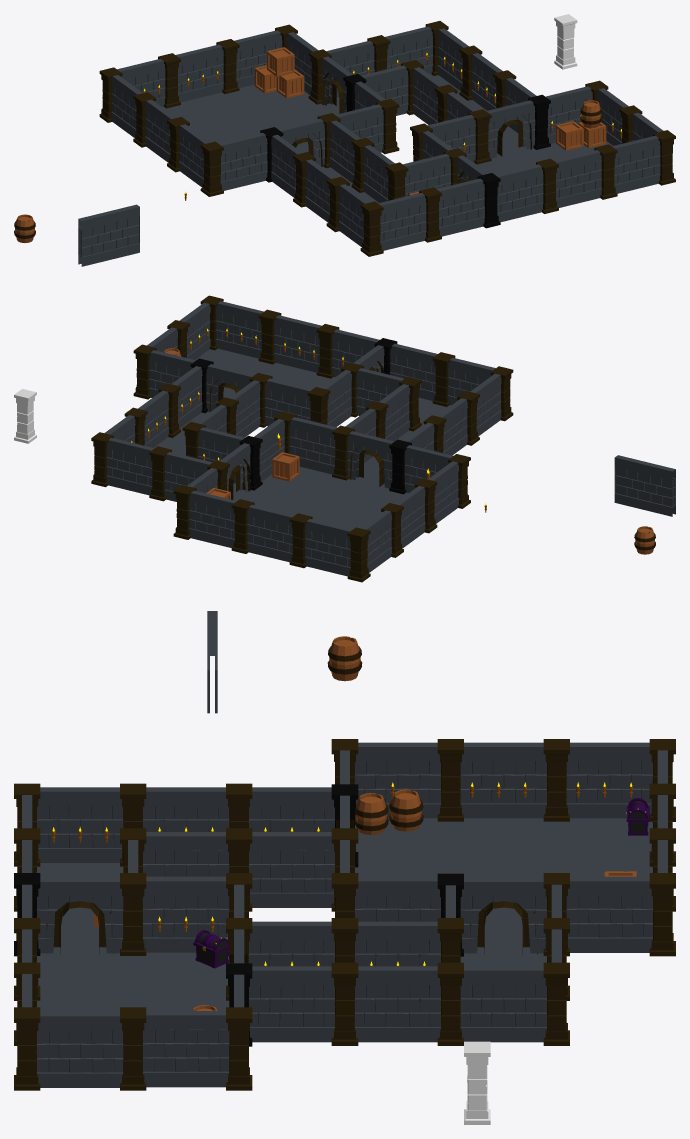
The model's file is dungeon+assets.glb.
The picture shows the model from 3 angles, top to bottom: view 1: azimuth 30°, elevation 25°; view 2: azimuth 150°, elevation 25°; view 3: azimuth 270°, elevation 25°; orthographic projection. The views are drawn at different scales.
Visible parts, largest first — view 1: wall, wall(without pillar), wall.021, wall.017, wall.020, wall.022, wall.016, wall.008, doorway.001, wall.015, wall.019, wall.009 (+42 smaller); view 2: wall(without pillar), wall.009, wall.003, wall.008, wall.021, wall.002, wall.022, doorway, wall.007, wall(without pillar).003, wall.030, wall.016 (+36 smaller); view 3: wall.024, wall.029, wall.027, wall.025, wall.006, wall.010, wall.004, wall.015, wall.007, wall.005, wall(without pillar).001, wall.018 (+44 smaller).
Part boxes in pixels (left/top/right/bottom): wall: left=200, top=132, right=267, bottom=196; wall(without pillar): left=78, top=204, right=139, bottom=266; wall.021: left=553, top=144, right=617, bottom=207; wall.017: left=436, top=173, right=500, bottom=236; wall.020: left=495, top=158, right=558, bottom=222; wall.022: left=612, top=130, right=675, bottom=193; wall.016: left=378, top=187, right=441, bottom=250; wall.008: left=175, top=39, right=239, bottom=102; doorway.001: left=486, top=94, right=550, bottom=158; wall.015: left=338, top=184, right=383, bottom=256; wall.019: left=427, top=109, right=491, bottom=164; wall.009: left=117, top=53, right=180, bottom=108; wall(without pillar): left=614, top=455, right=675, bottom=516; wall.009: left=289, top=513, right=352, bottom=576; wall.003: left=173, top=485, right=236, bottom=547; wall.008: left=231, top=499, right=294, bottom=562; wall.021: left=258, top=309, right=321, bottom=372; wall.002: left=289, top=417, right=354, bottom=480; wall.022: left=200, top=295, right=263, bottom=358; doorway: left=347, top=431, right=411, bottom=494; wall.007: left=347, top=510, right=392, bottom=582; wall(without pillar).003: left=106, top=437, right=154, bottom=495; wall.030: left=149, top=446, right=212, bottom=501; wall.016: left=432, top=352, right=495, bottom=406; wall.024: left=120, top=1007, right=229, bottom=1090; wall.029: left=460, top=962, right=569, bottom=1045; wall.027: left=355, top=962, right=463, bottom=1045; wall.025: left=249, top=962, right=358, bottom=1045; wall.006: left=460, top=739, right=569, bottom=821; wall.010: left=226, top=828, right=334, bottom=911; wall.004: left=543, top=873, right=652, bottom=956; wall.015: left=14, top=783, right=123, bottom=866; wall.007: left=566, top=739, right=675, bottom=821; wall.005: left=355, top=739, right=463, bottom=821; wall(without pillar).001: left=37, top=1011, right=123, bottom=1087; wall.018: left=143, top=873, right=252, bottom=955.
Bounding box in the file's own units: 41.03 × 3.12 × 25.
